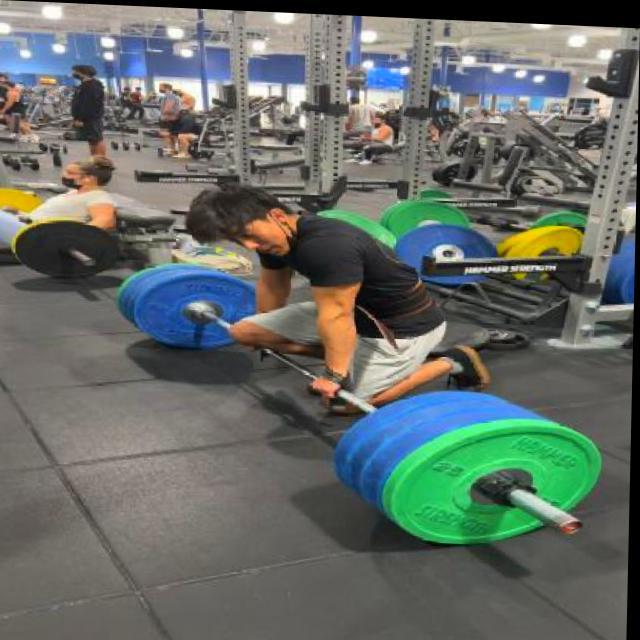barbell: (391, 410, 609, 553)
